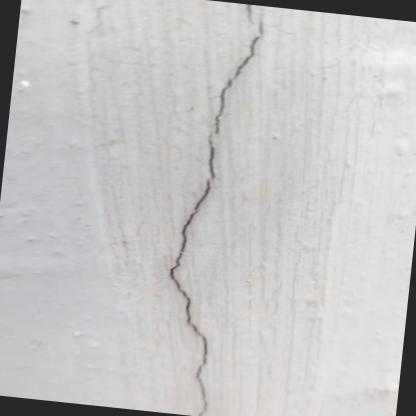crack: (167, 19, 264, 416), (243, 3, 255, 22)
